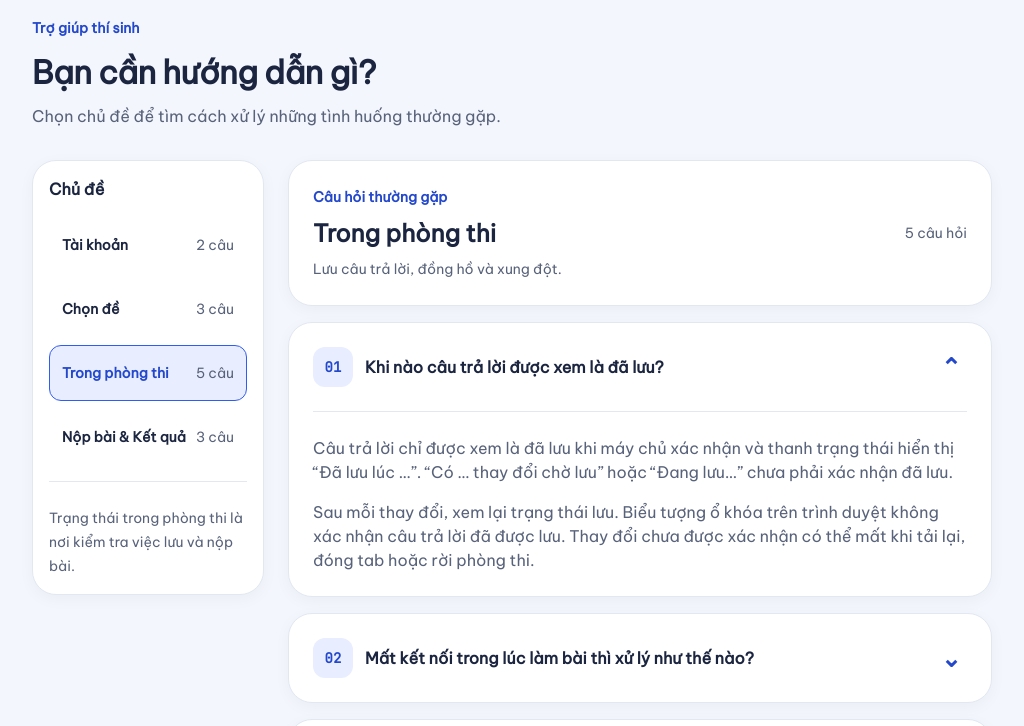
Test: starts with examination guidance and lets visitors switch topics without a session
This screenshot has width=1024, height=726.
Check: the text "Khi nào câu trả lời được xem là đã lưu?" is shown, box [365, 357, 664, 377]
Click the button "Tài khoản 2 câu" at (148, 245), box [49, 217, 247, 273]
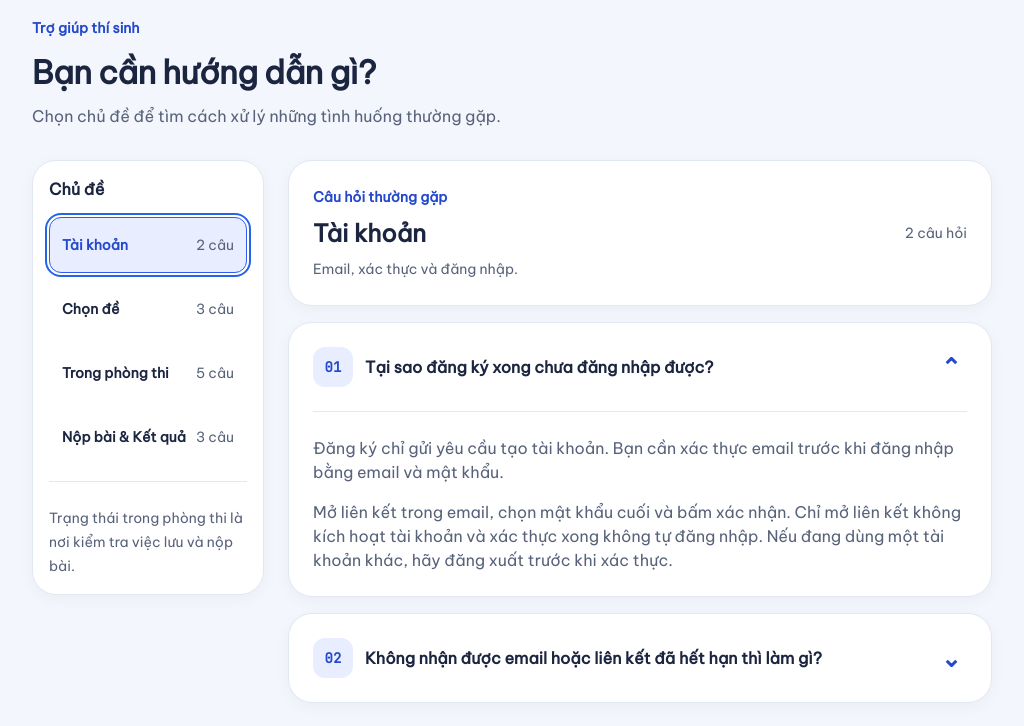
Check: the heading "Khi nào câu trả lời được xem là đã lưu?" is gone
Check: the heading "Tài khoản" is shown, box [313, 218, 426, 248]
Check: the text "Tại sao đăng ký xong chưa đăng nhập được?" is shown, box [365, 357, 714, 377]
Click the button "Nộp bài & Kết quả 3 câu" at (148, 437), box [49, 409, 247, 465]
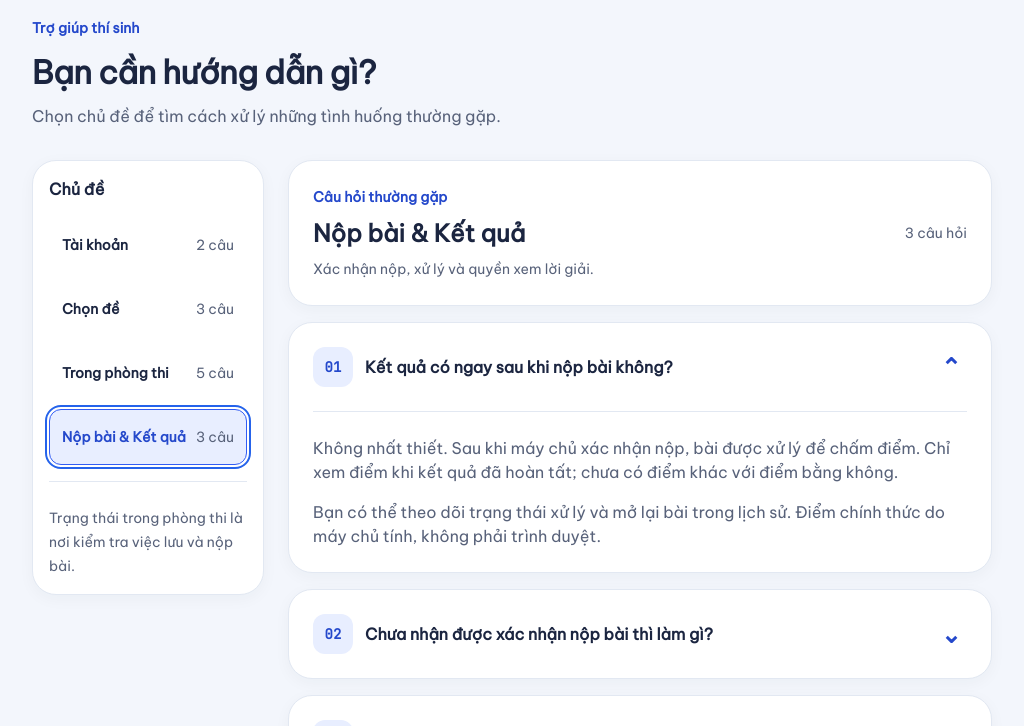
Check: the text "Kết quả có ngay sau khi nộp bài không?" is shown, box [365, 357, 673, 377]
Check: the heading "Tại sao đăng ký xong chưa đăng nhập được?" is gone
